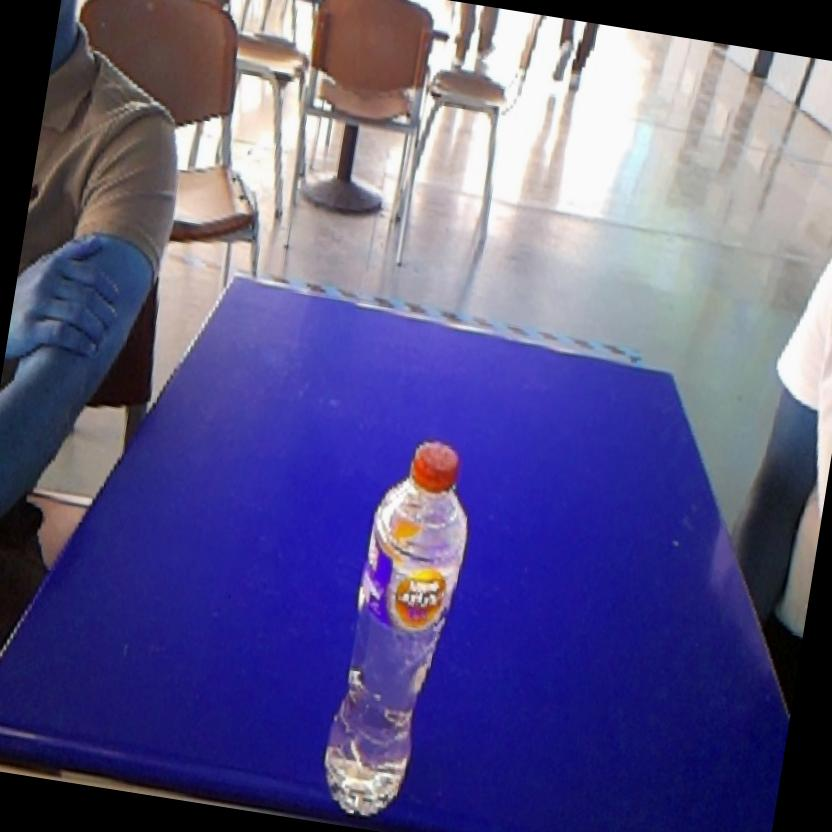good: (303, 419, 488, 832)
